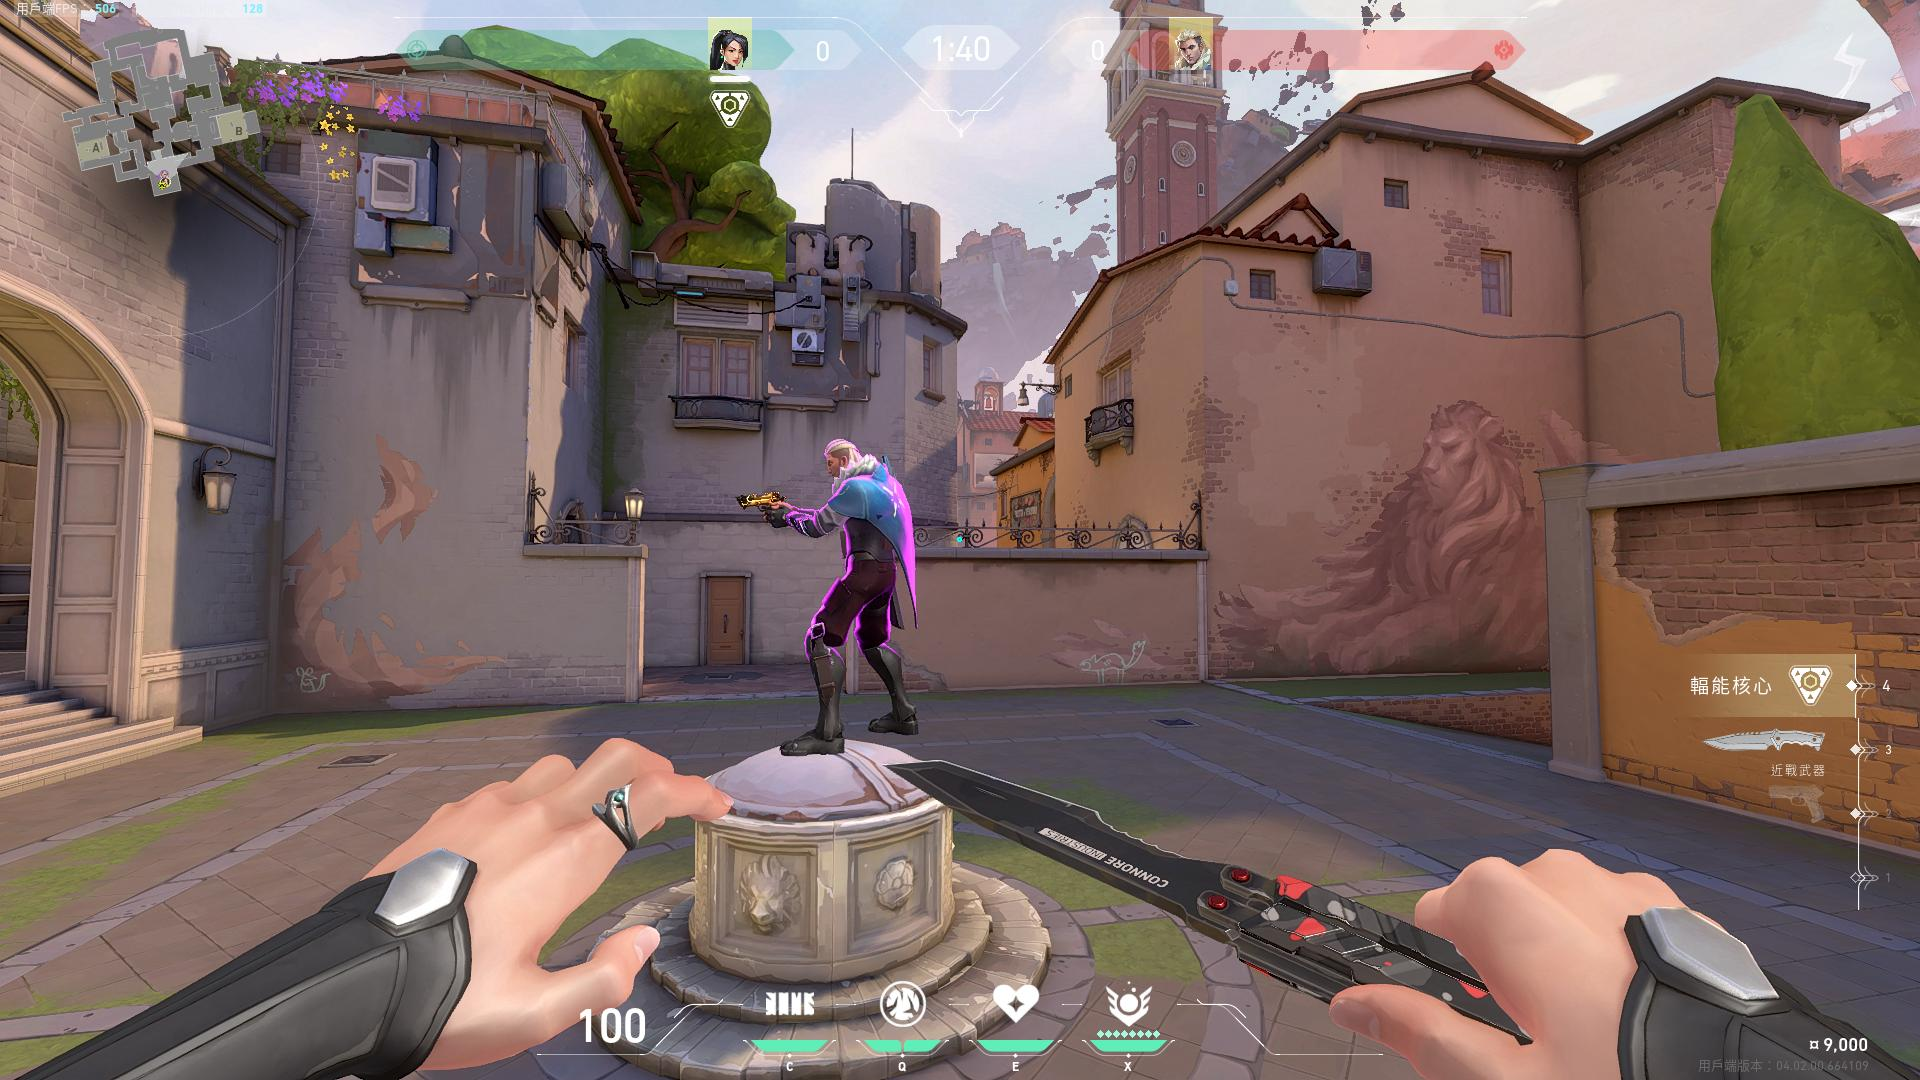enemyBody: (853, 483, 895, 555)
enemyHead: (825, 452, 851, 475)
